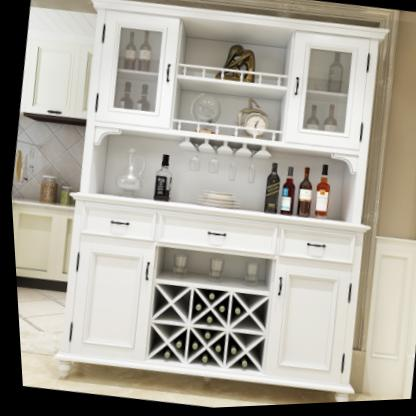Cupboard: (50, 0, 391, 405)
